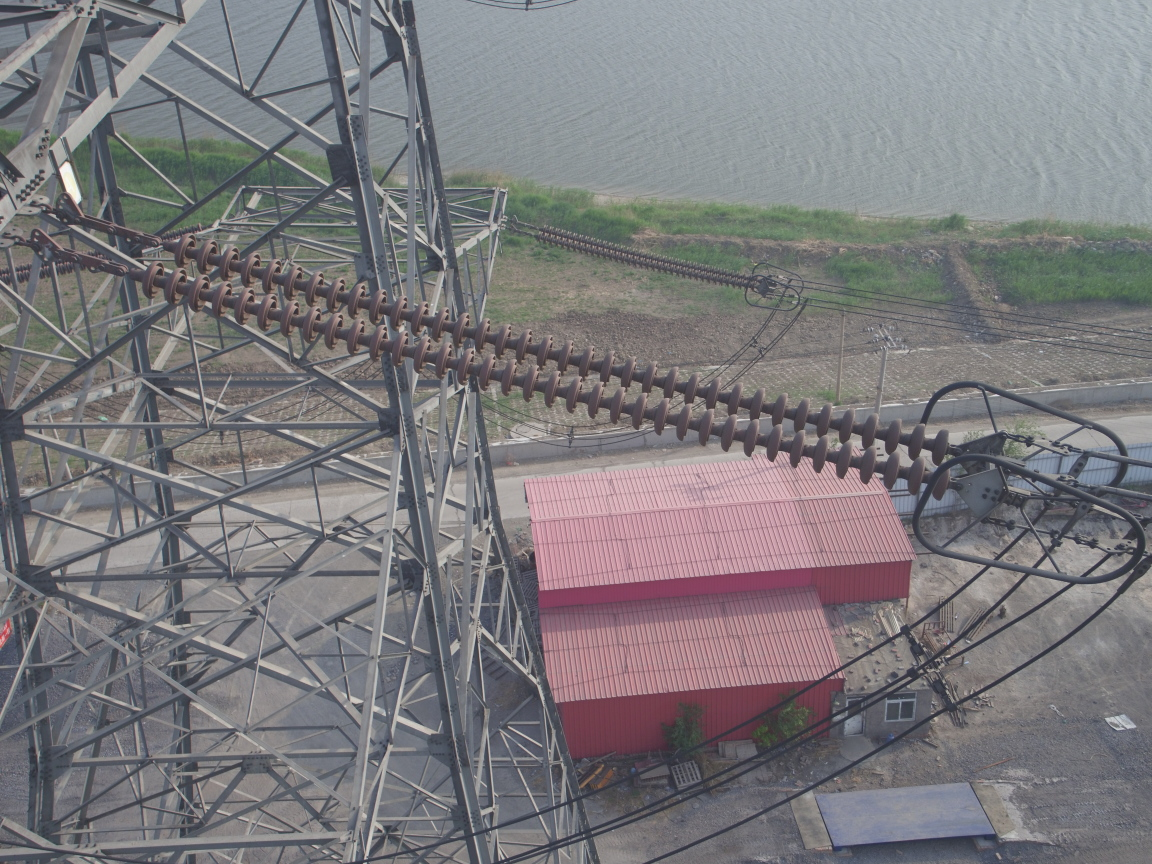insulator: (95, 228, 979, 507)
